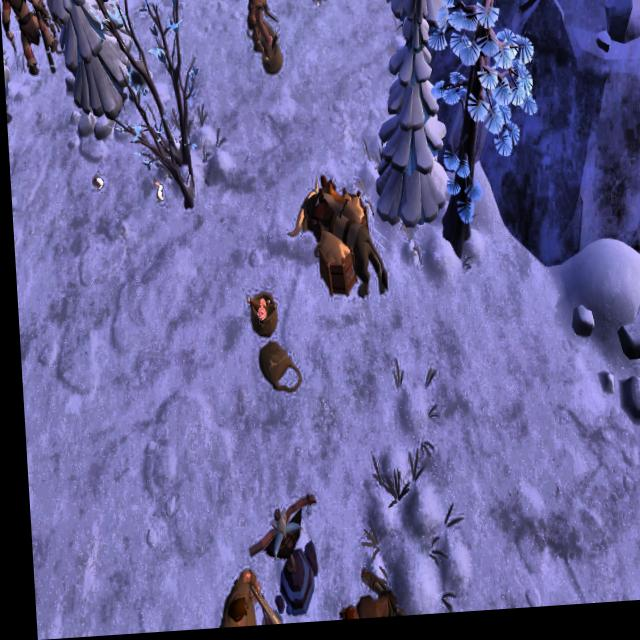enemy_factionKeeper: (3, 0, 59, 86), (211, 570, 268, 630), (329, 570, 391, 624), (246, 0, 279, 63)
